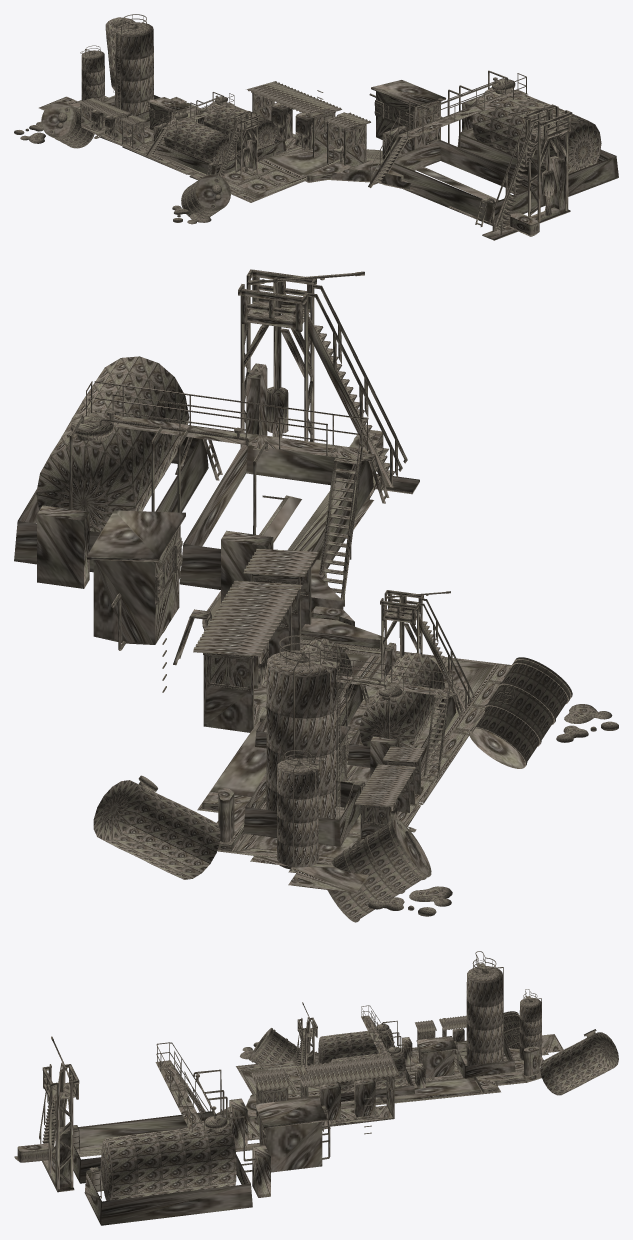
File: factory.obj
3 views of the same model, one above another, from view 1: azimuth 30°, elevation 25°; view 2: azimuth 150°, elevation 25°; view 3: azimuth 270°, elevation 25° (orthographic). The views are drawn at different scales.
Parts seen in each view (by area): view 1: tube001; view 2: tube001; view 3: tube001.
Boxes of the visible parts, x1,y1,x2,y2 form: tube001: [14, 14, 618, 240]; tube001: [14, 269, 618, 922]; tube001: [14, 951, 618, 1225].
Size of the model in its own units: 73674 by 25045 by 90946.
Materials: 1 (1 with a texture image).
